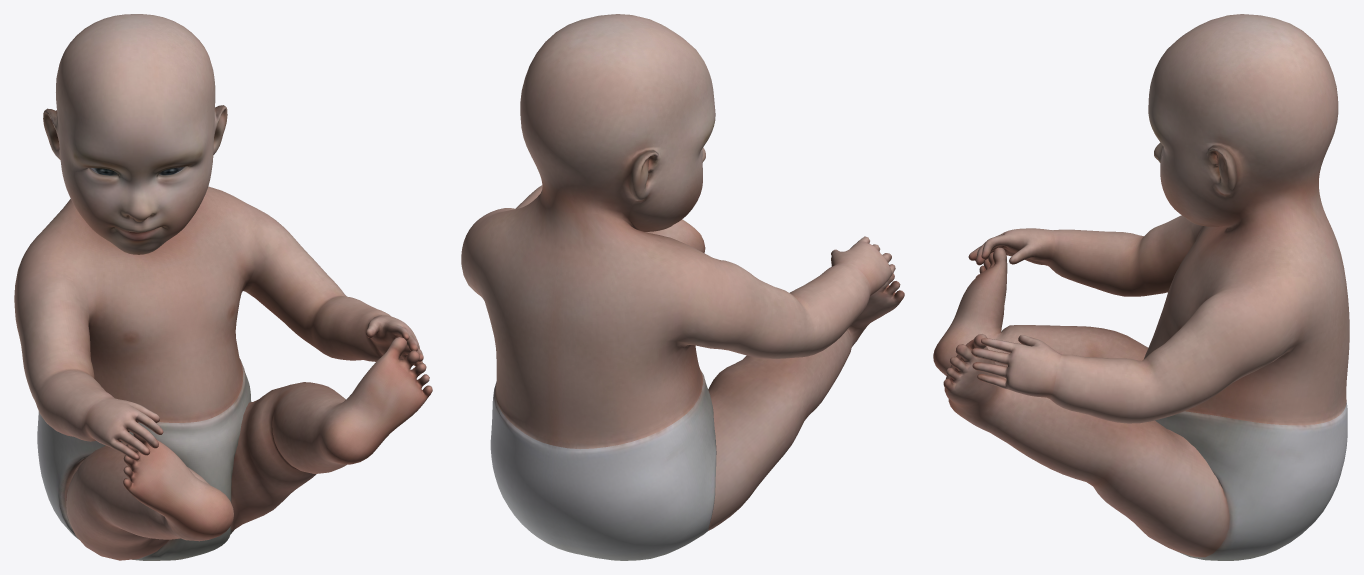
The model's file is baby.obj.
The picture shows the model from 3 angles, left to right: view 1: azimuth 30°, elevation 25°; view 2: azimuth 150°, elevation 25°; view 3: azimuth 270°, elevation 25°; orthographic projection. The views are drawn at different scales.
Visible parts, largest first — view 1: PlayingBaby; view 2: PlayingBaby; view 3: PlayingBaby.
Part boxes in pixels (x1=…): PlayingBaby: x1=14, y1=14, x2=432, y2=560; PlayingBaby: x1=461, y1=14, x2=904, y2=560; PlayingBaby: x1=933, y1=14, x2=1349, y2=560.
Bounding box in the file's own units: 13.06 × 19.27 × 14.17.
1 material, 1 textured.
